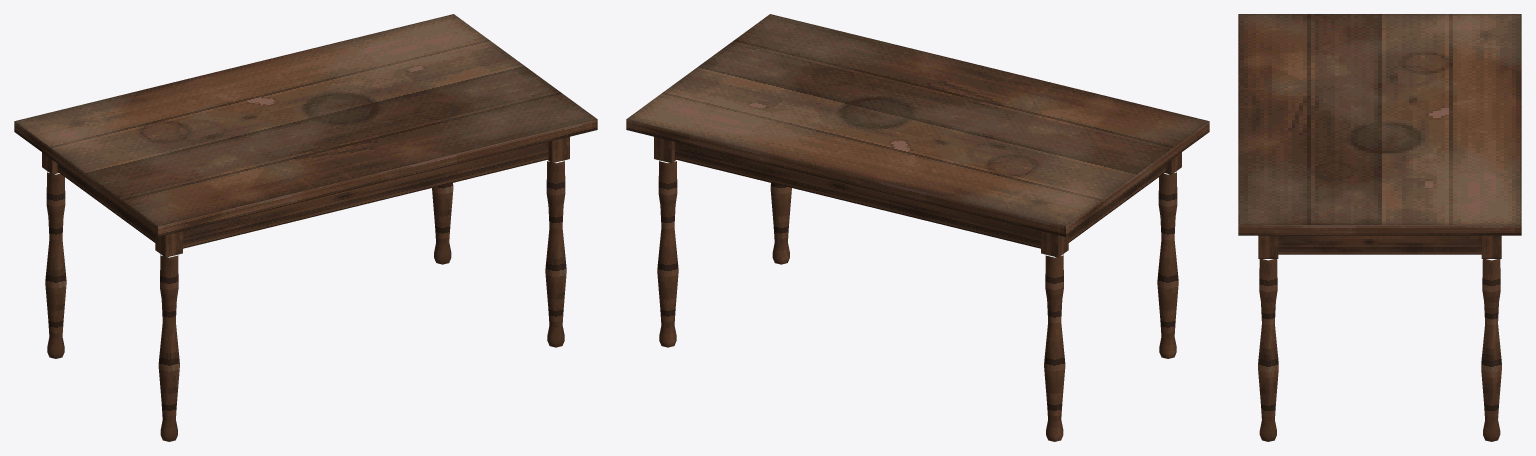
File: table_dining.glb
3 renders of one model, left to right at view 1: azimuth 30°, elevation 25°; view 2: azimuth 150°, elevation 25°; view 3: azimuth 270°, elevation 25°, orthographic.
Visible parts, largest first — view 1: table_dining; view 2: table_dining; view 3: table_dining.
Boxes of the visible parts, <box> form: table_dining: <box>14,14,597,441</box>; table_dining: <box>626,14,1209,441</box>; table_dining: <box>1238,14,1521,441</box>.
Size of the model in its own units: 1.5 by 0.75 by 0.85.
1 material, 1 textured.
